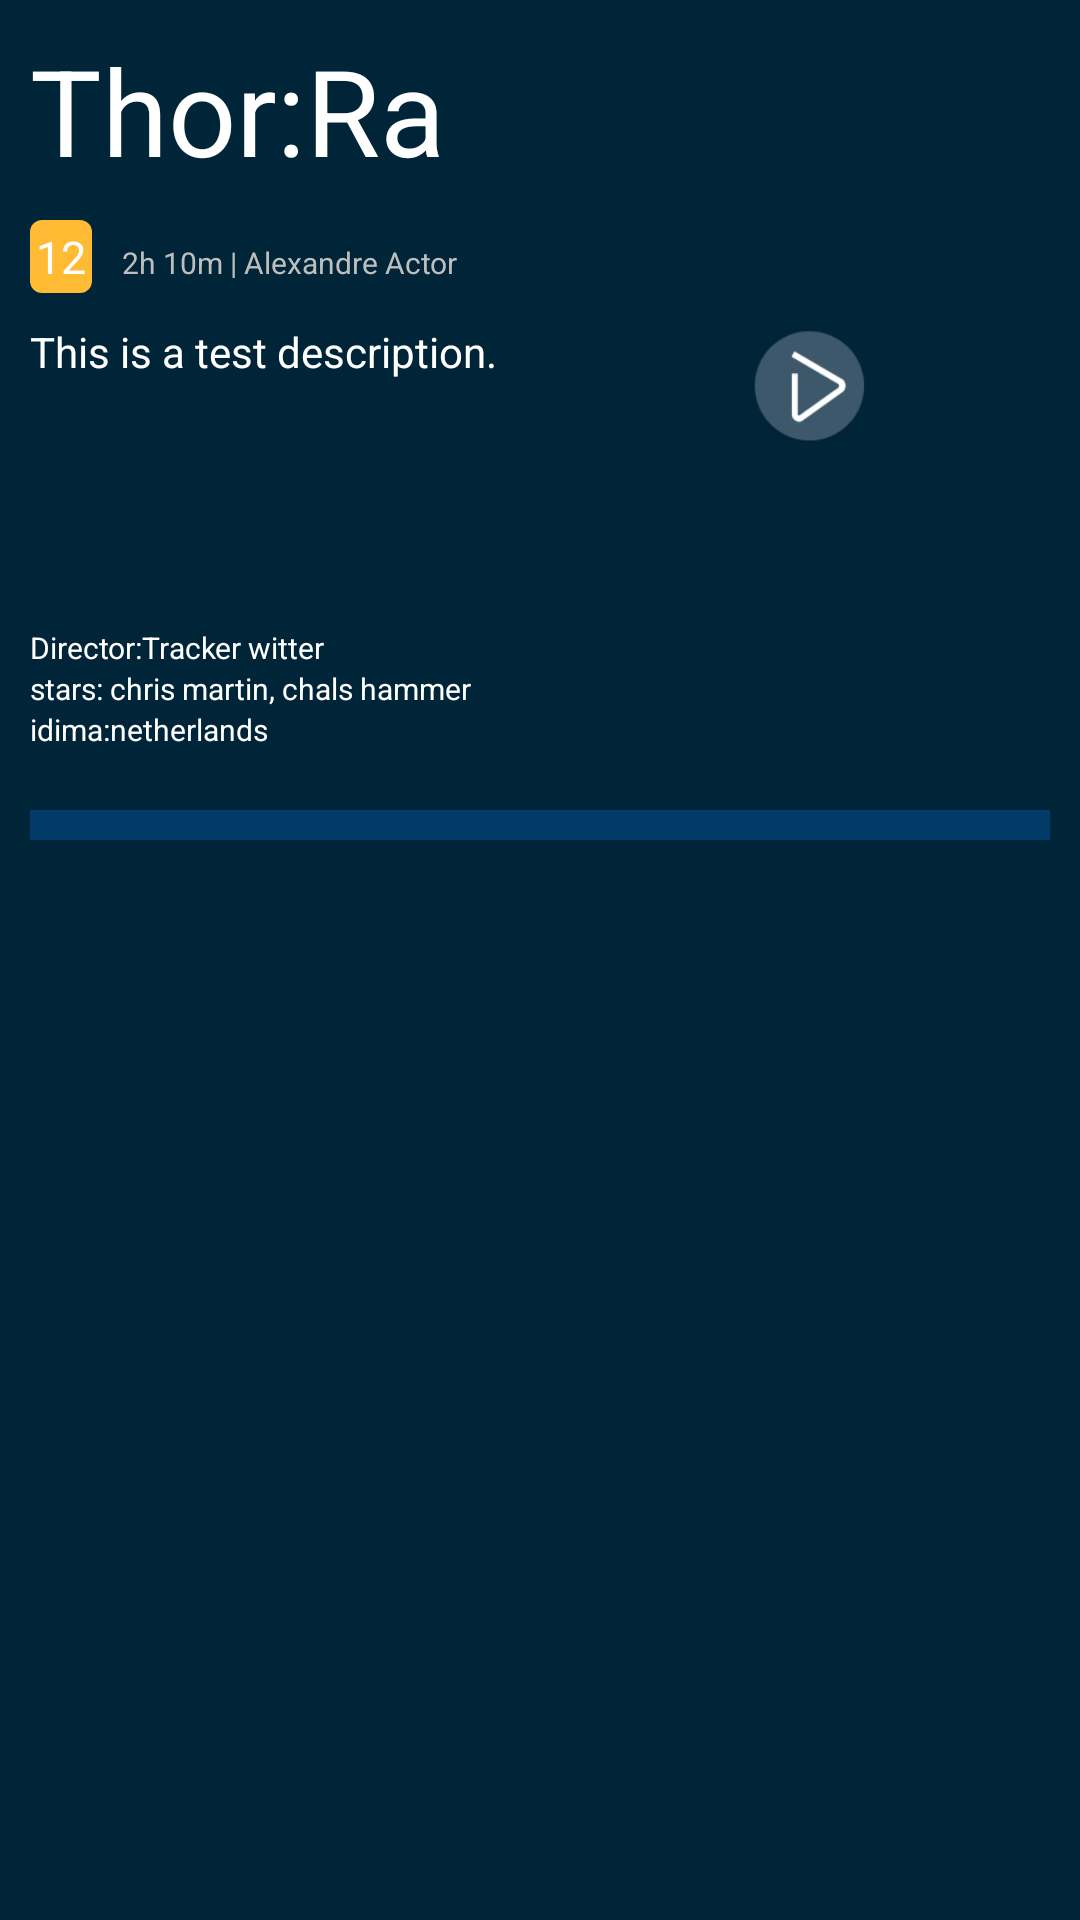

Icon click points for this 1080w x 1920h phone screenshot, format point (x, y):
video play: point (809, 386)
